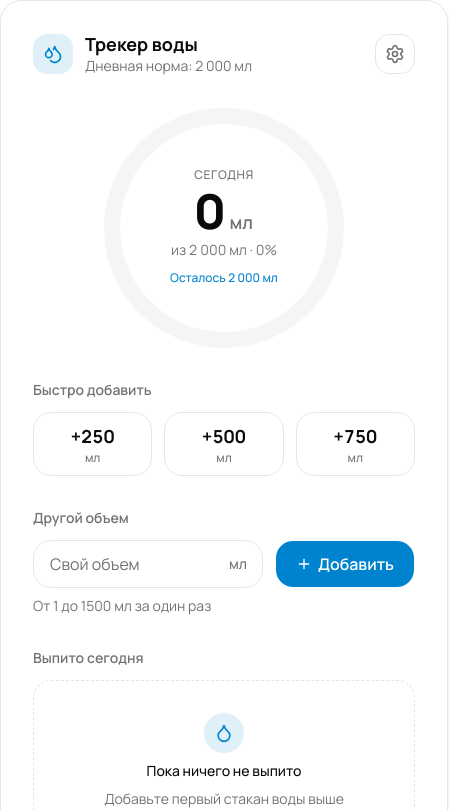
Test: WaterTracker: валидация формы › не отправляет запрос и показывает ошибку для значения ""
The width and height of the screenshot is (465, 810).
Click the button "Добавить".
click(345, 564)  # box [275, 540, 415, 588]
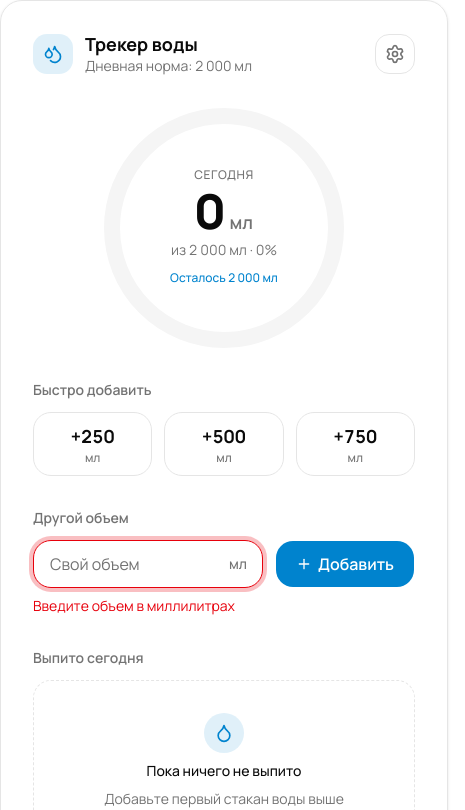
Check: the message reads "Введите объем в миллилитрах", box [33, 596, 235, 614]
